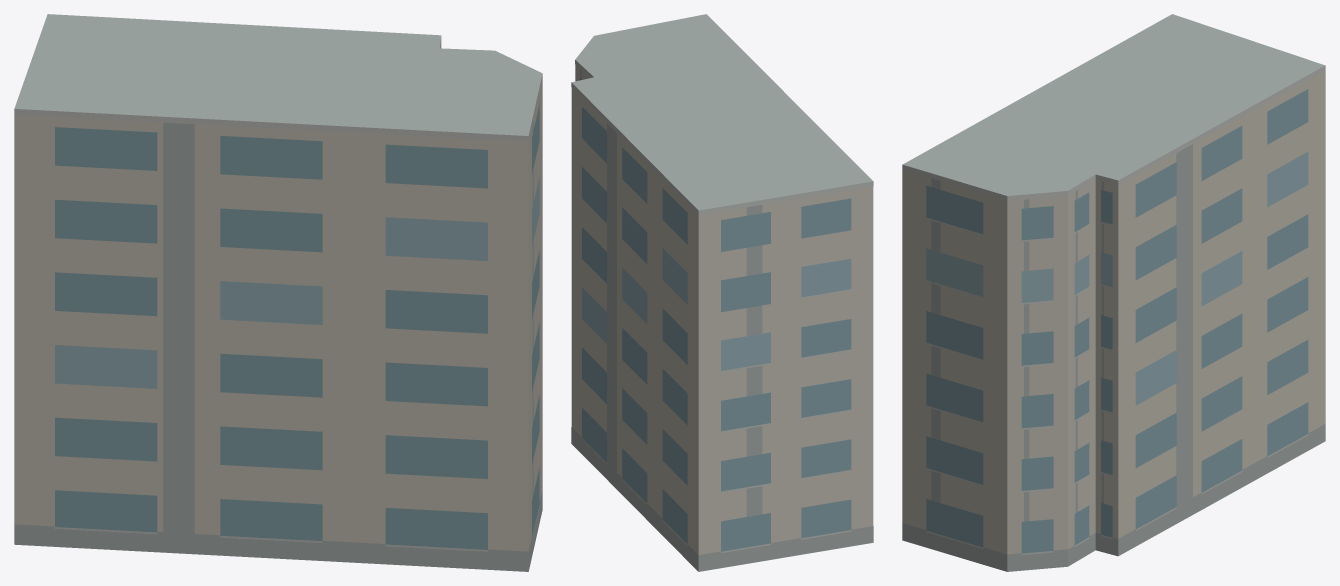
File: survey-upis-32990129.glb
3 views of the same model, side by side, from view 1: azimuth 30°, elevation 25°; view 2: azimuth 150°, elevation 25°; view 3: azimuth 270°, elevation 25° (orthographic). The views are drawn at different scales.
Visible parts, largest first — view 1: survey-upis-32990129.tmp; view 2: survey-upis-32990129.tmp; view 3: survey-upis-32990129.tmp.
Part boxes in pixels (x1,y1,x2,y2): survey-upis-32990129.tmp: (14,14,542,571); survey-upis-32990129.tmp: (571,14,873,571); survey-upis-32990129.tmp: (902,14,1325,571).
Bounding box in the file's own units: 19.02 × 18.3 × 18.68.
